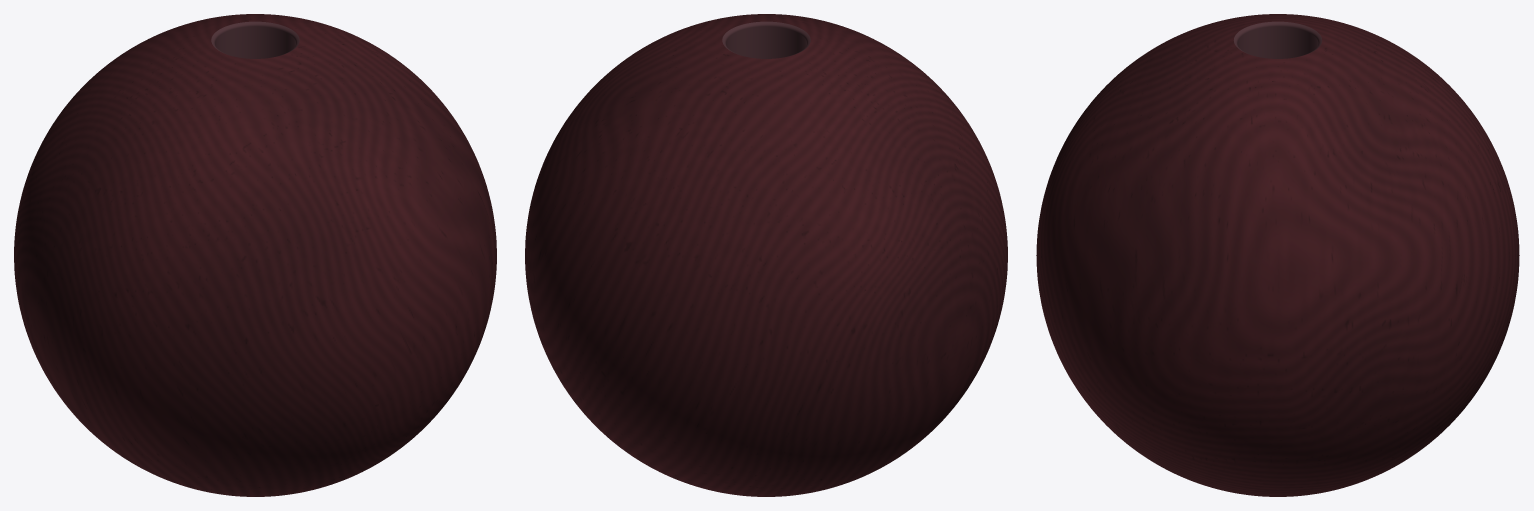
The model's file is wood-xiaoye-zitan-6mm.glb.
The picture shows the model from 3 angles, left to right: view 1: azimuth 30°, elevation 25°; view 2: azimuth 150°, elevation 25°; view 3: azimuth 270°, elevation 25°; orthographic projection.
Parts seen in each view (by area): view 1: xiaoye-zitan; view 2: xiaoye-zitan; view 3: xiaoye-zitan.
Part boxes in pixels (x1,y1,x2,y2): xiaoye-zitan: (14, 14, 496, 496); xiaoye-zitan: (525, 14, 1007, 496); xiaoye-zitan: (1036, 14, 1519, 496).
Size of the model in its own units: 0.006 by 0.0059 by 0.006.
2 materials, 1 textured.
